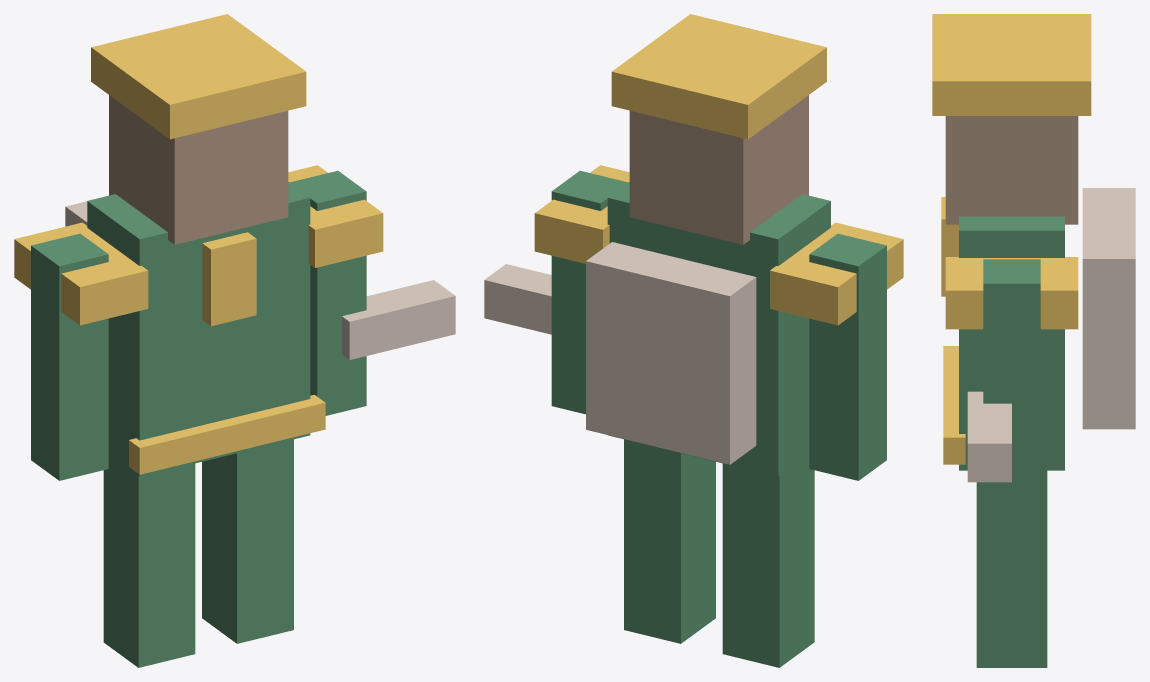
File: 14_orin_brightlock_broker_at_ranger.glb
3 views of the same model, side by side, from view 1: azimuth 30°, elevation 25°; view 2: azimuth 150°, elevation 25°; view 3: azimuth 270°, elevation 25° (orthographic).
Visible parts, largest first — view 1: Orin Brightlock, Broker at Ranger; view 2: Orin Brightlock, Broker at Ranger; view 3: Orin Brightlock, Broker at Ranger.
Boxes of the visible parts, <box> form: Orin Brightlock, Broker at Ranger: <box>14,14,455,667</box>; Orin Brightlock, Broker at Ranger: <box>484,14,903,667</box>; Orin Brightlock, Broker at Ranger: <box>932,14,1135,667</box>.
Bounding box in the file's own units: 1.04 × 1.47 × 0.4648.
